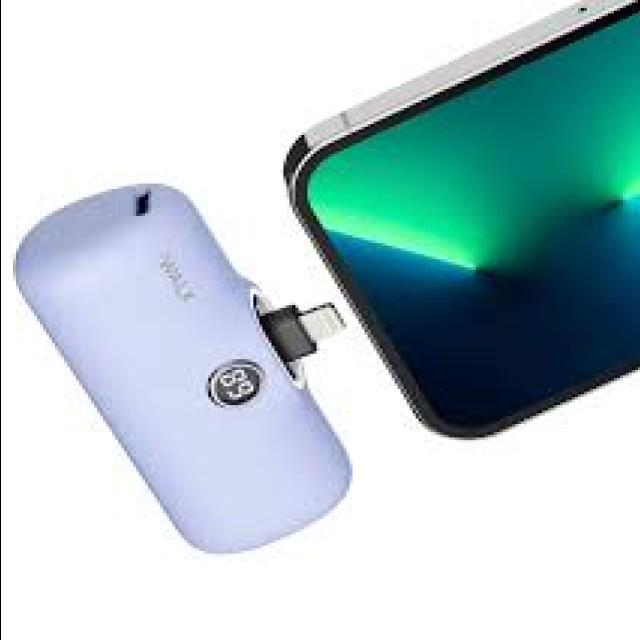portable-charger: (11, 177, 360, 559)
